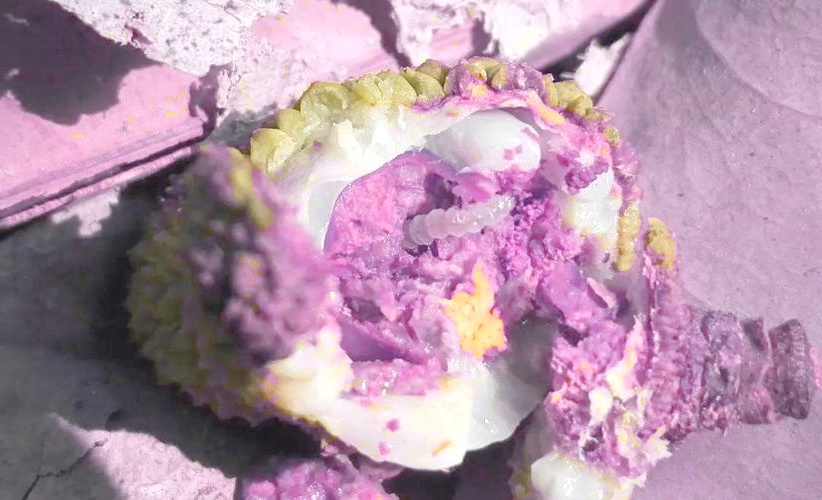Borer: (388, 194, 520, 269)
